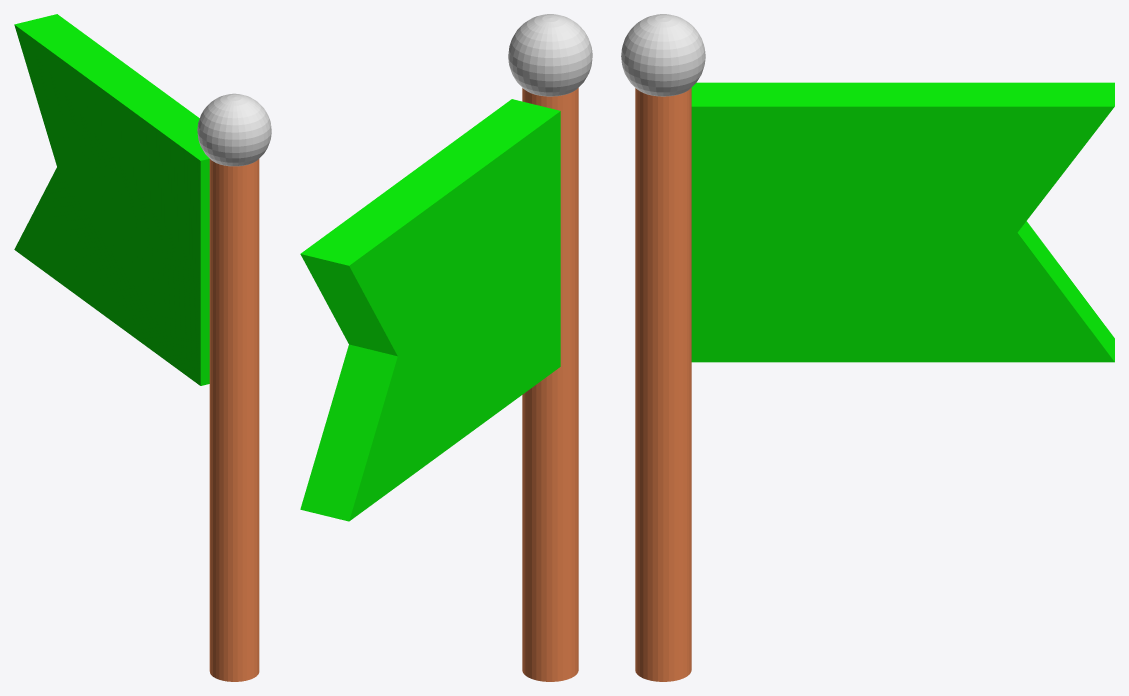
Rendered from CheckPoint.fbx.
The picture shows the model from 3 angles, left to right: view 1: azimuth 30°, elevation 25°; view 2: azimuth 150°, elevation 25°; view 3: azimuth 270°, elevation 25°; orthographic projection. The views are drawn at different scales.
Visible parts, largest first — view 1: Cube.001, Cylinder, Sphere; view 2: Cube.001, Cylinder, Sphere; view 3: Cube.001, Cylinder, Sphere.
Part boxes in pixels (x1=…): Cube.001: x1=14, y1=14, x2=209, y2=385; Cylinder: x1=209, y1=159, x2=259, y2=681; Sphere: x1=197, y1=93, x2=271, y2=166; Cube.001: x1=300, y1=99, x2=560, y2=521; Cylinder: x1=522, y1=88, x2=578, y2=681; Sphere: x1=508, y1=14, x2=592, y2=96; Cube.001: x1=691, y1=82, x2=1114, y2=362; Cylinder: x1=635, y1=88, x2=691, y2=681; Sphere: x1=621, y1=14, x2=705, y2=96.
Bounding box in the file's own units: 60 × 510 × 350.
